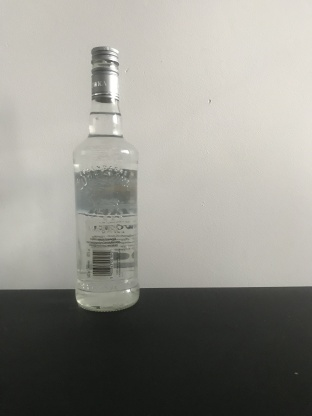nakretka: (89, 45, 120, 103)
